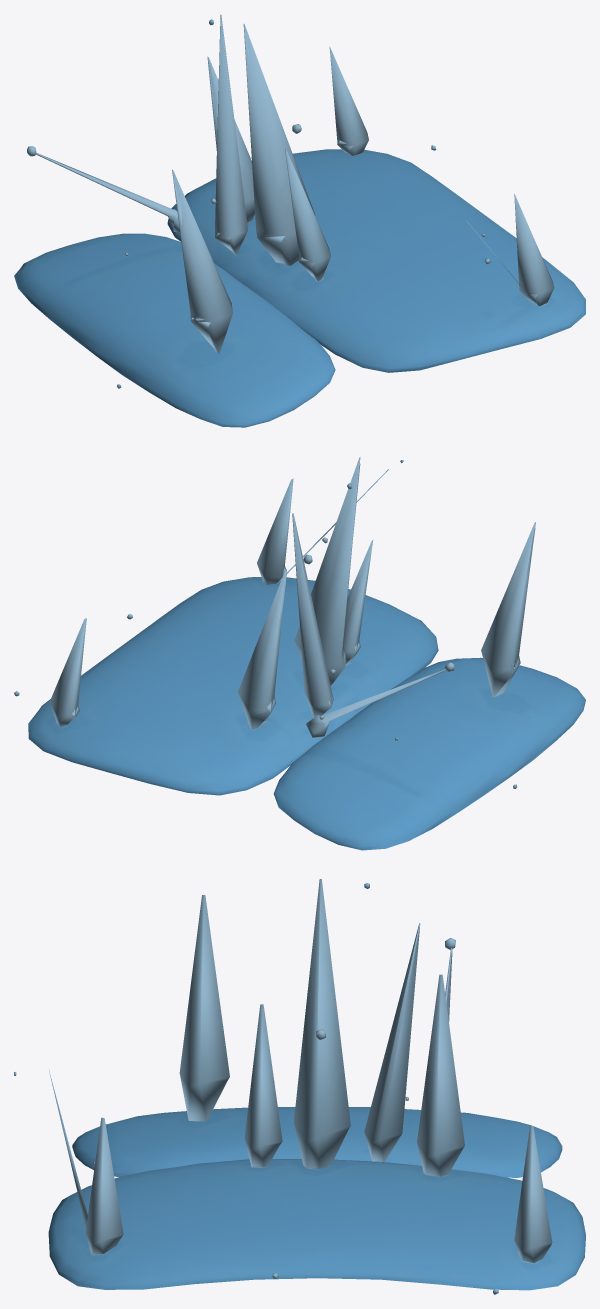
File: icecrown.glb
3 views of the same model, one above another, from view 1: azimuth 30°, elevation 25°; view 2: azimuth 150°, elevation 25°; view 3: azimuth 270°, elevation 25° (orthographic). The views are drawn at different scales.
Parts seen in each view (by area): view 1: tripo_node_f378b50b-bdfc-4474-b4c1-f53cdd852cd0; view 2: tripo_node_f378b50b-bdfc-4474-b4c1-f53cdd852cd0; view 3: tripo_node_f378b50b-bdfc-4474-b4c1-f53cdd852cd0.
Part boxes in pixels (x1=…): tripo_node_f378b50b-bdfc-4474-b4c1-f53cdd852cd0: x1=14, y1=14, x2=585, y2=427; tripo_node_f378b50b-bdfc-4474-b4c1-f53cdd852cd0: x1=14, y1=457, x2=585, y2=850; tripo_node_f378b50b-bdfc-4474-b4c1-f53cdd852cd0: x1=14, y1=879, x2=585, y2=1294.
Size of the model in its own units: 0.9355 by 0.6621 by 0.998.
Materials: 1 (1 with a texture image).
